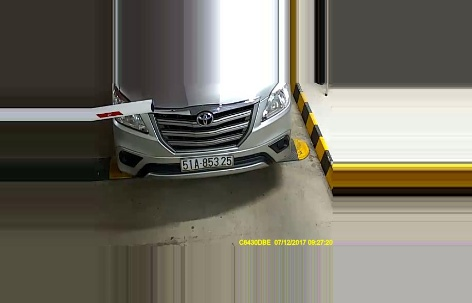plate: (176, 152, 236, 170)
